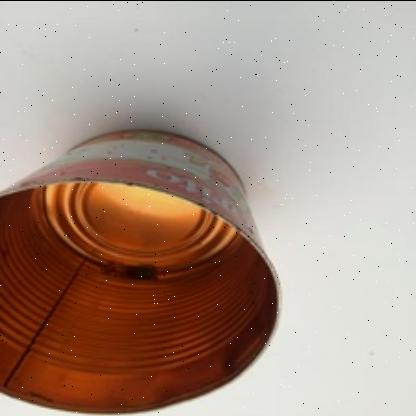Can: (0, 125, 286, 414)
